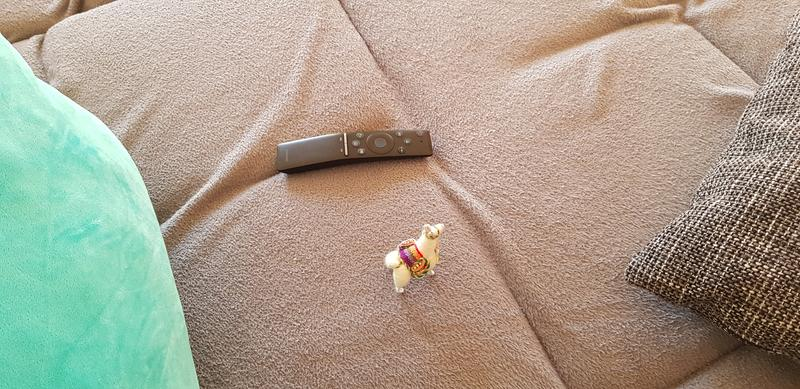Horse-Toy: (380, 215, 453, 301)
